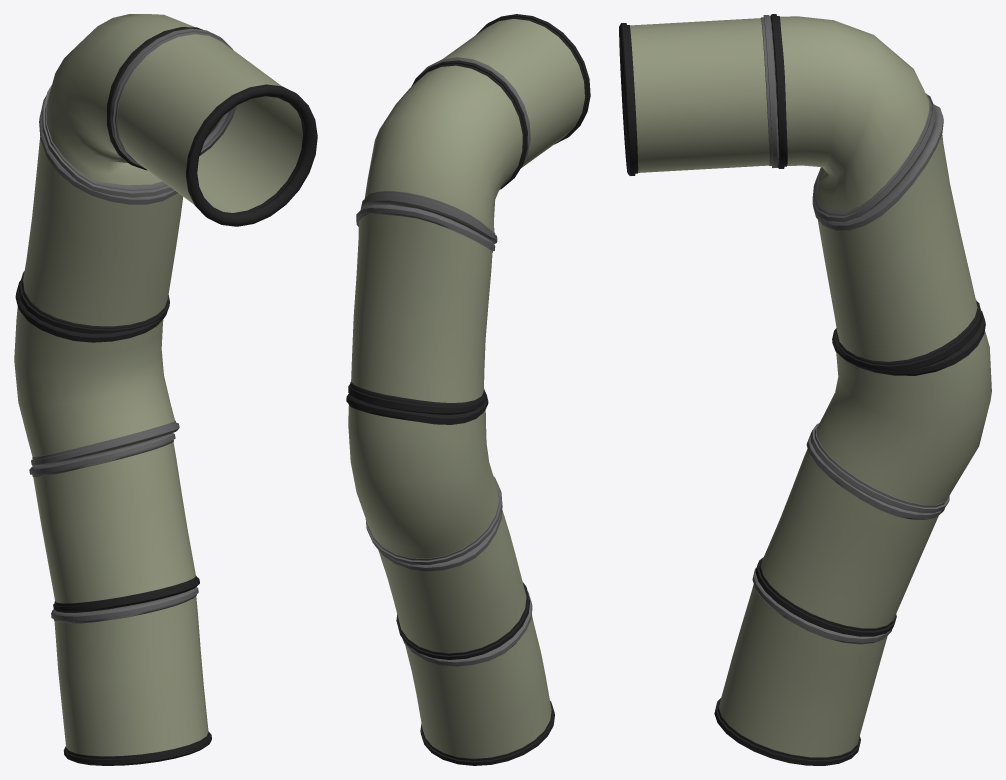
The model's file is SM_Tunnel_02.fbx.
3 renders of one model, left to right at view 1: azimuth 30°, elevation 25°; view 2: azimuth 150°, elevation 25°; view 3: azimuth 270°, elevation 25°, orthographic. The views are drawn at different scales.
Parts seen in each view (by area): view 1: Cylinder.004; view 2: Cylinder.004; view 3: Cylinder.004.
Part boxes in pixels (box(x1,y1,x2,y2)): Cylinder.004: box(14, 14, 317, 765); Cylinder.004: box(346, 14, 590, 765); Cylinder.004: box(619, 14, 991, 765).
Size of the model in its own units: 544 by 2301 by 1051.
